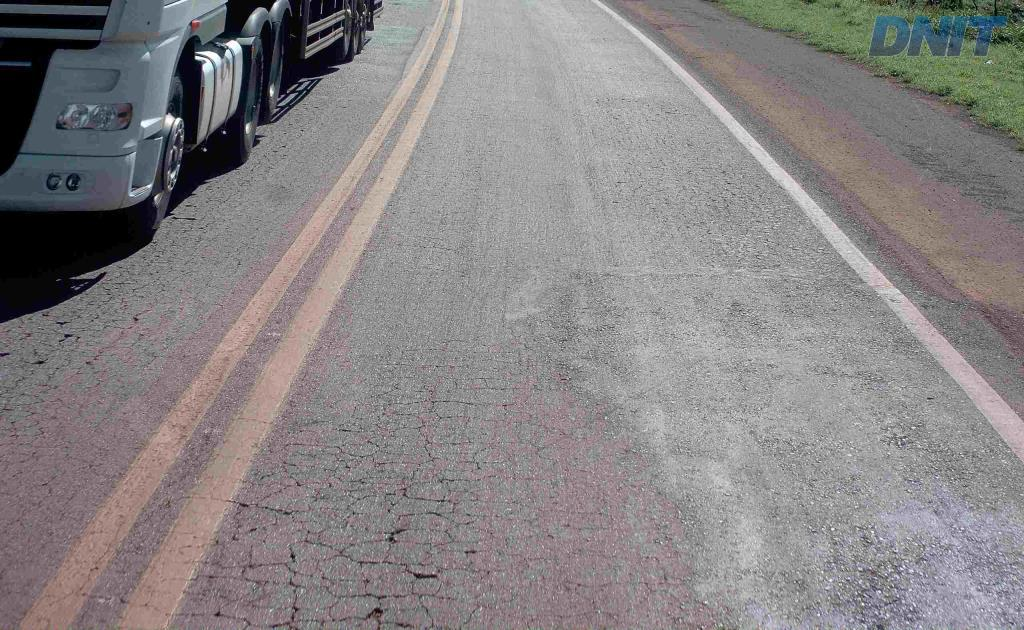crack: (382, 505, 459, 607), (188, 542, 303, 607), (213, 498, 305, 550), (284, 571, 386, 607)
